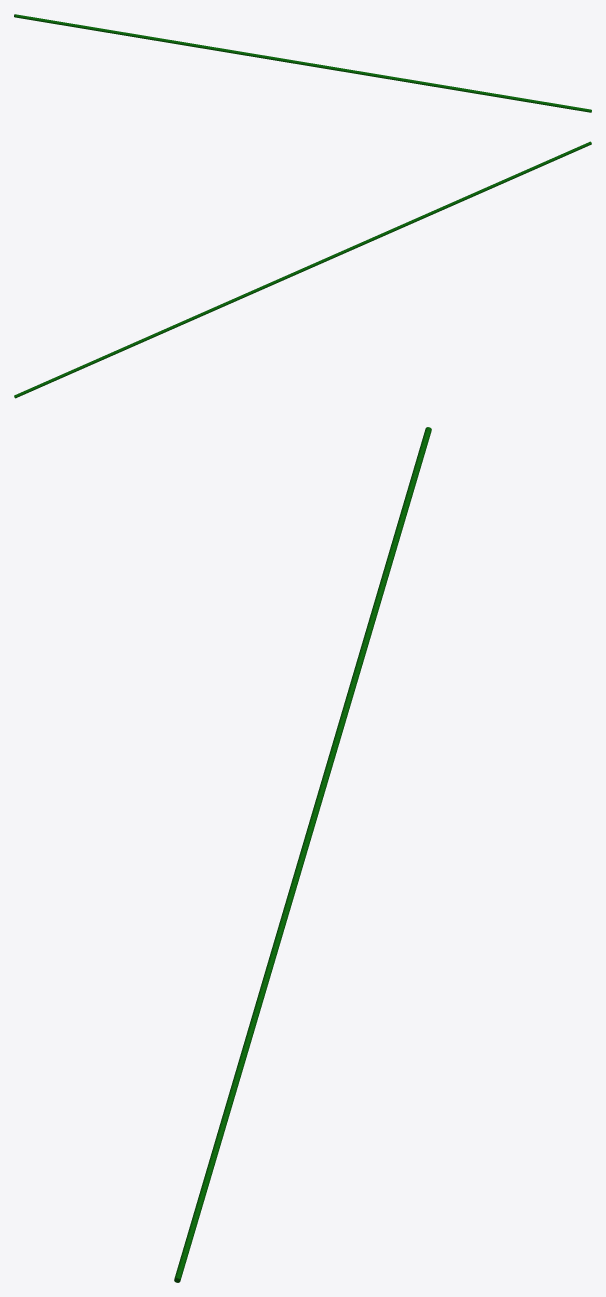
Rendered from Event_195102316_jet_0.fbx.
3 views of the same model, one above another, from view 1: azimuth 30°, elevation 25°; view 2: azimuth 210°, elevation 25°; view 3: azimuth 270°, elevation 25° (orthographic). The views are drawn at different scales.
Parts seen in each view (by area): view 1: Model; view 2: Model; view 3: Model.
Boxes of the visible parts, x1,y1,x2,y2 form: Model: [14, 14, 591, 112]; Model: [14, 141, 591, 398]; Model: [174, 427, 431, 1282].
Bounding box in the file's own units: 7.36 × 2.43 × 1.6.
